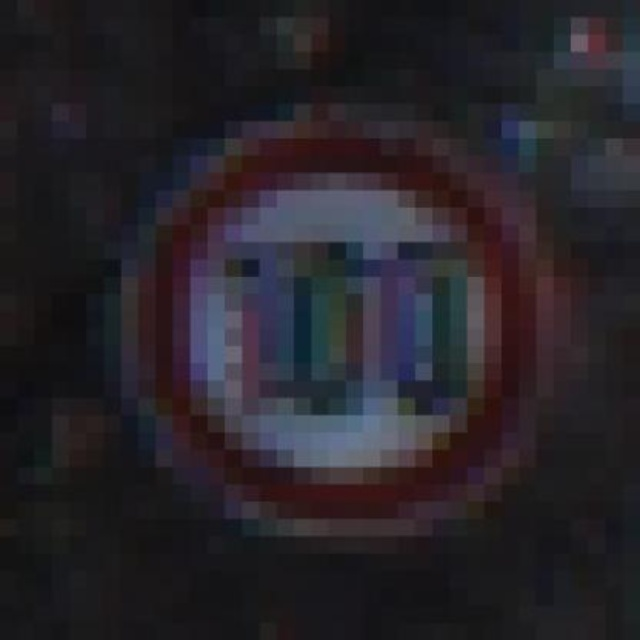Tốc độ tối đa cho phép 100km/h: (137, 117, 540, 526)
